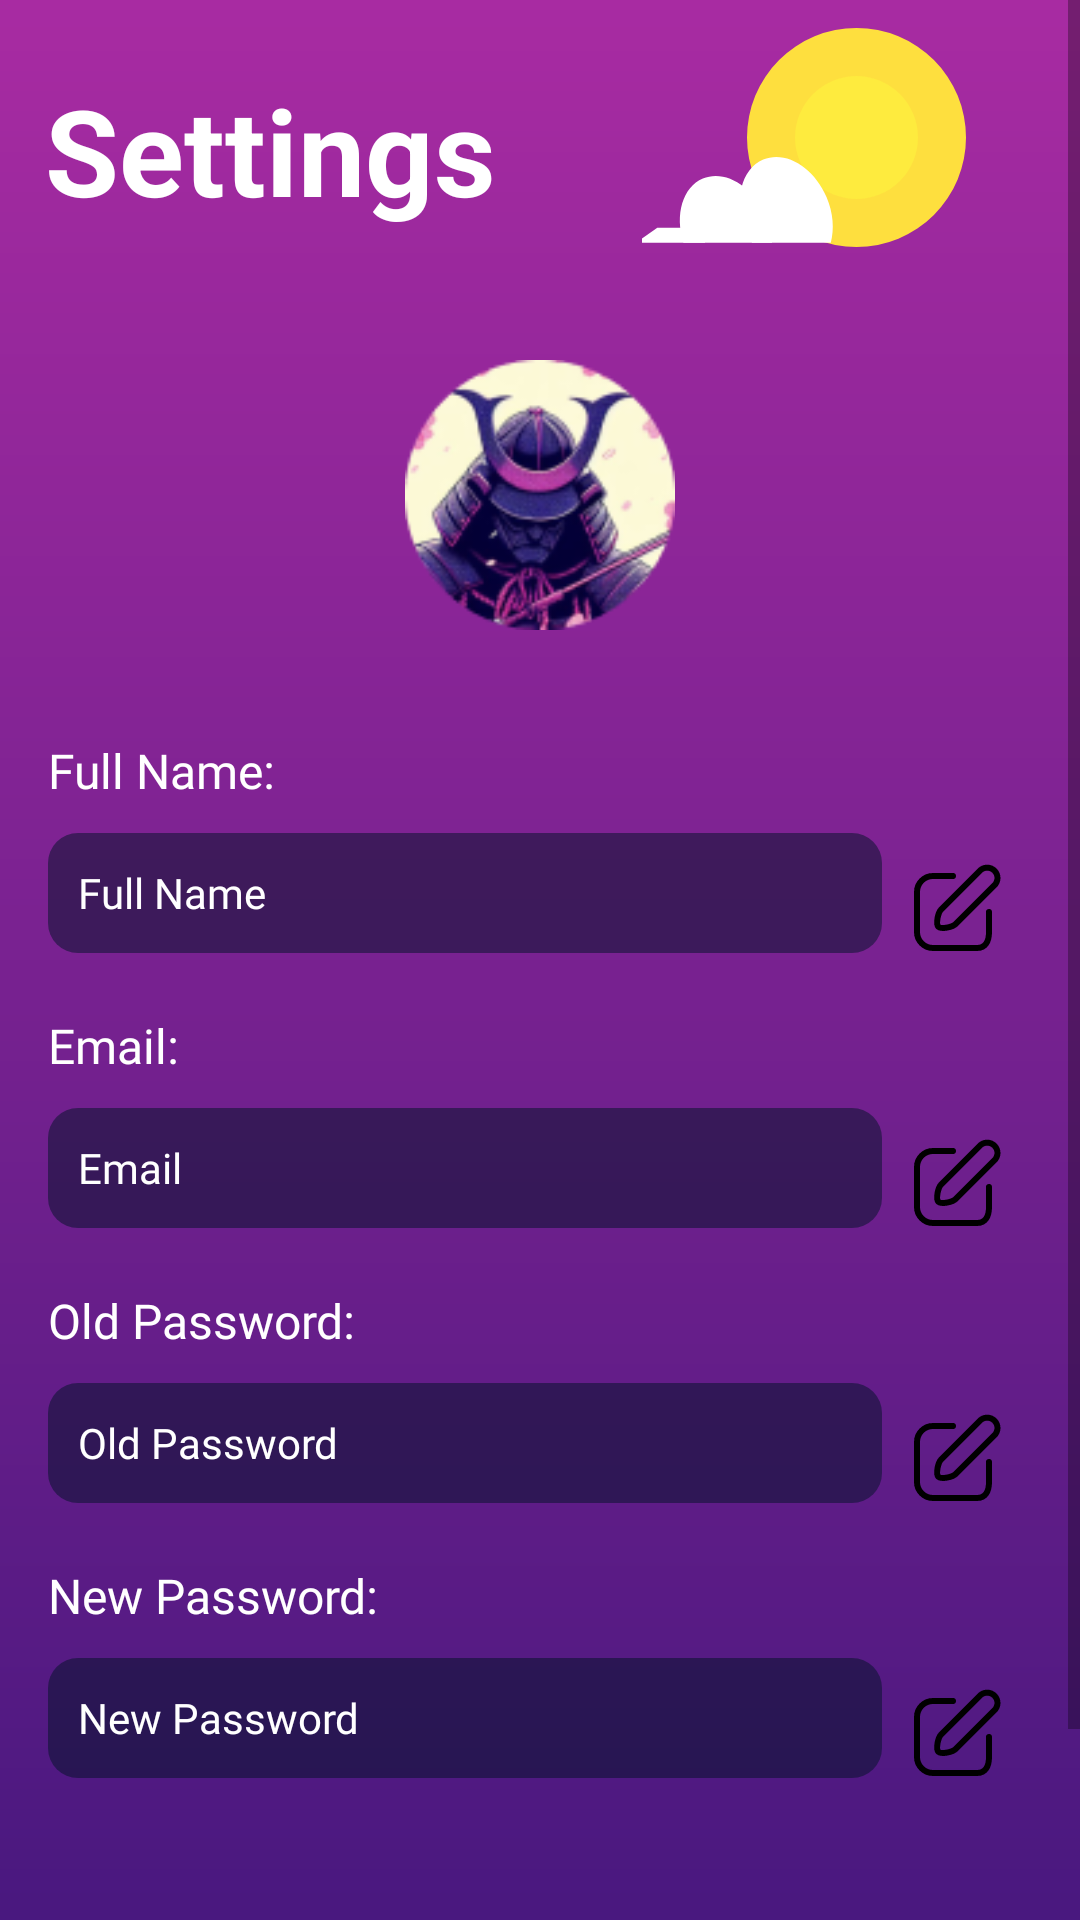

Where to tap for icons on this 1080w x 1920h app screen, as [x,y]:
edit: [957,907], [957,1182], [957,1457], [957,1732]
profile: [540,495]
sun: [804,137]
